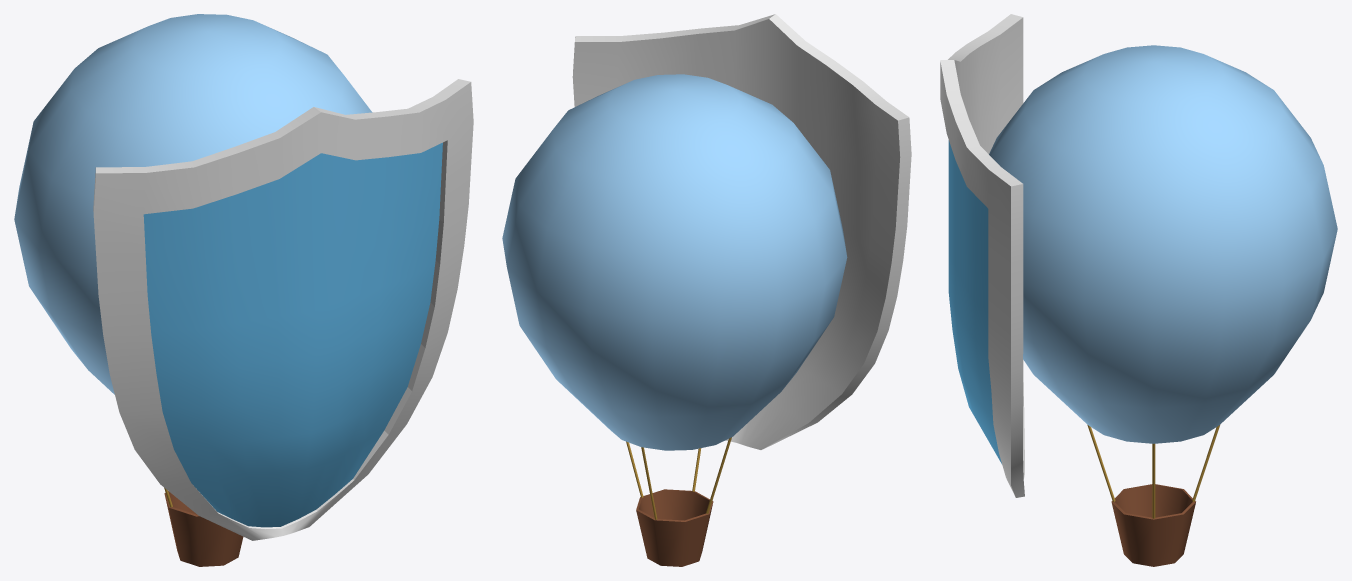
Rendered from Lv3_FB_Shielder.FBX.
3 renders of one model, left to right at view 1: azimuth 30°, elevation 25°; view 2: azimuth 150°, elevation 25°; view 3: azimuth 270°, elevation 25°, orthographic. The views are drawn at different scales.
Parts seen in each view (by area): view 1: Plane001, Sphere001, Cylinder001; view 2: Sphere001, Plane001, Cylinder001, Line003; view 3: Sphere001, Plane001, Cylinder001, Line003.
Part boxes in pixels (x1,y1,x2,y2): Plane001: (93,79,473,540); Sphere001: (14,14,372,394); Cylinder001: (164,491,243,566); Sphere001: (502,74,847,450); Plane001: (572,14,911,449); Cylinder001: (636,489,713,566); Line003: (626,437,731,519); Sphere001: (989,45,1337,443); Plane001: (940,14,1024,497); Cylinder001: (1111,484,1195,566); Line003: (1087,425,1219,518).
Bounding box in the file's own units: 146 × 193 × 140.
